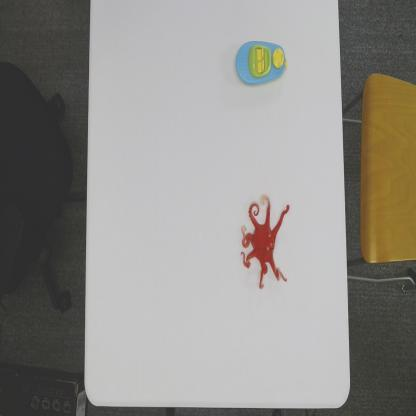Boat: (234, 38, 290, 89)
Octopus: (240, 192, 291, 291)
